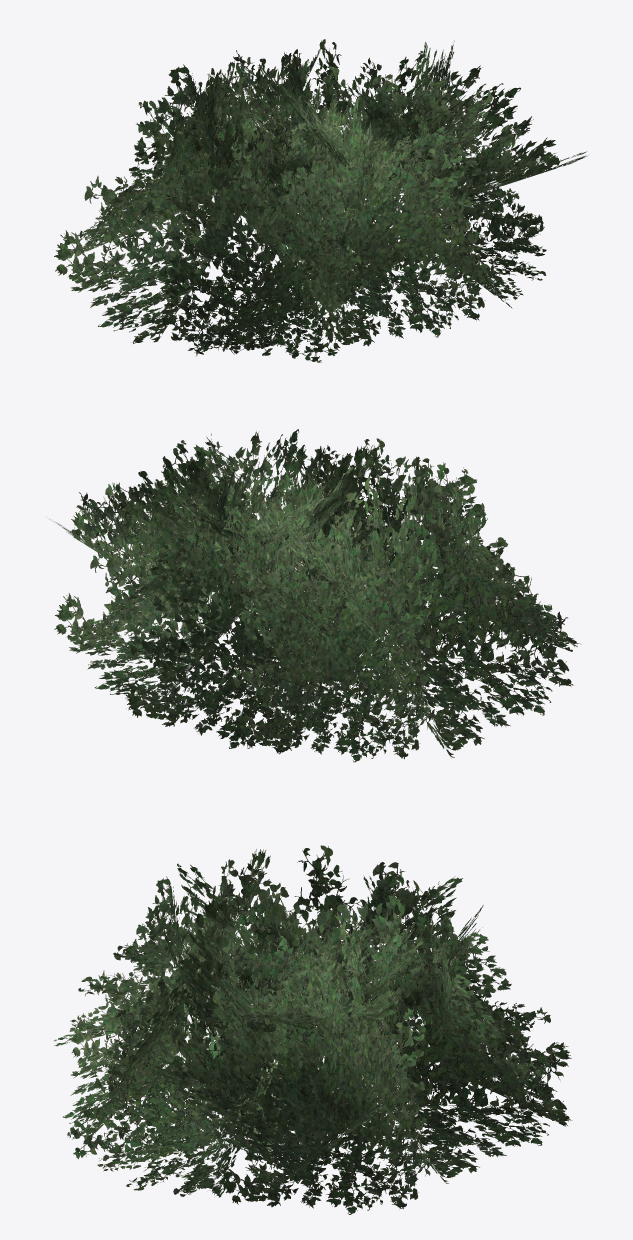
File: shrb_giantlickbush_a1_l0.fbx
3 views of the same model, one above another, from view 1: azimuth 30°, elevation 25°; view 2: azimuth 150°, elevation 25°; view 3: azimuth 270°, elevation 25° (orthographic). The views are drawn at different scales.
Visible parts, largest first — view 1: mesh_node; view 2: mesh_node; view 3: mesh_node.
Boxes of the visible parts, x1=… form: mesh_node: x1=54, y1=39, x2=586, y2=362; mesh_node: x1=50, y1=429, x2=581, y2=762; mesh_node: x1=54, y1=845, x2=572, y2=1214.
Bounding box in the file's own units: 4 × 1.87 × 3.48.
1 material, 1 textured.
